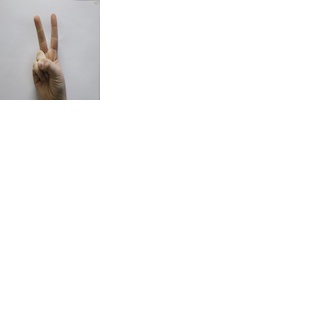scissors: (26, 9, 70, 99)
